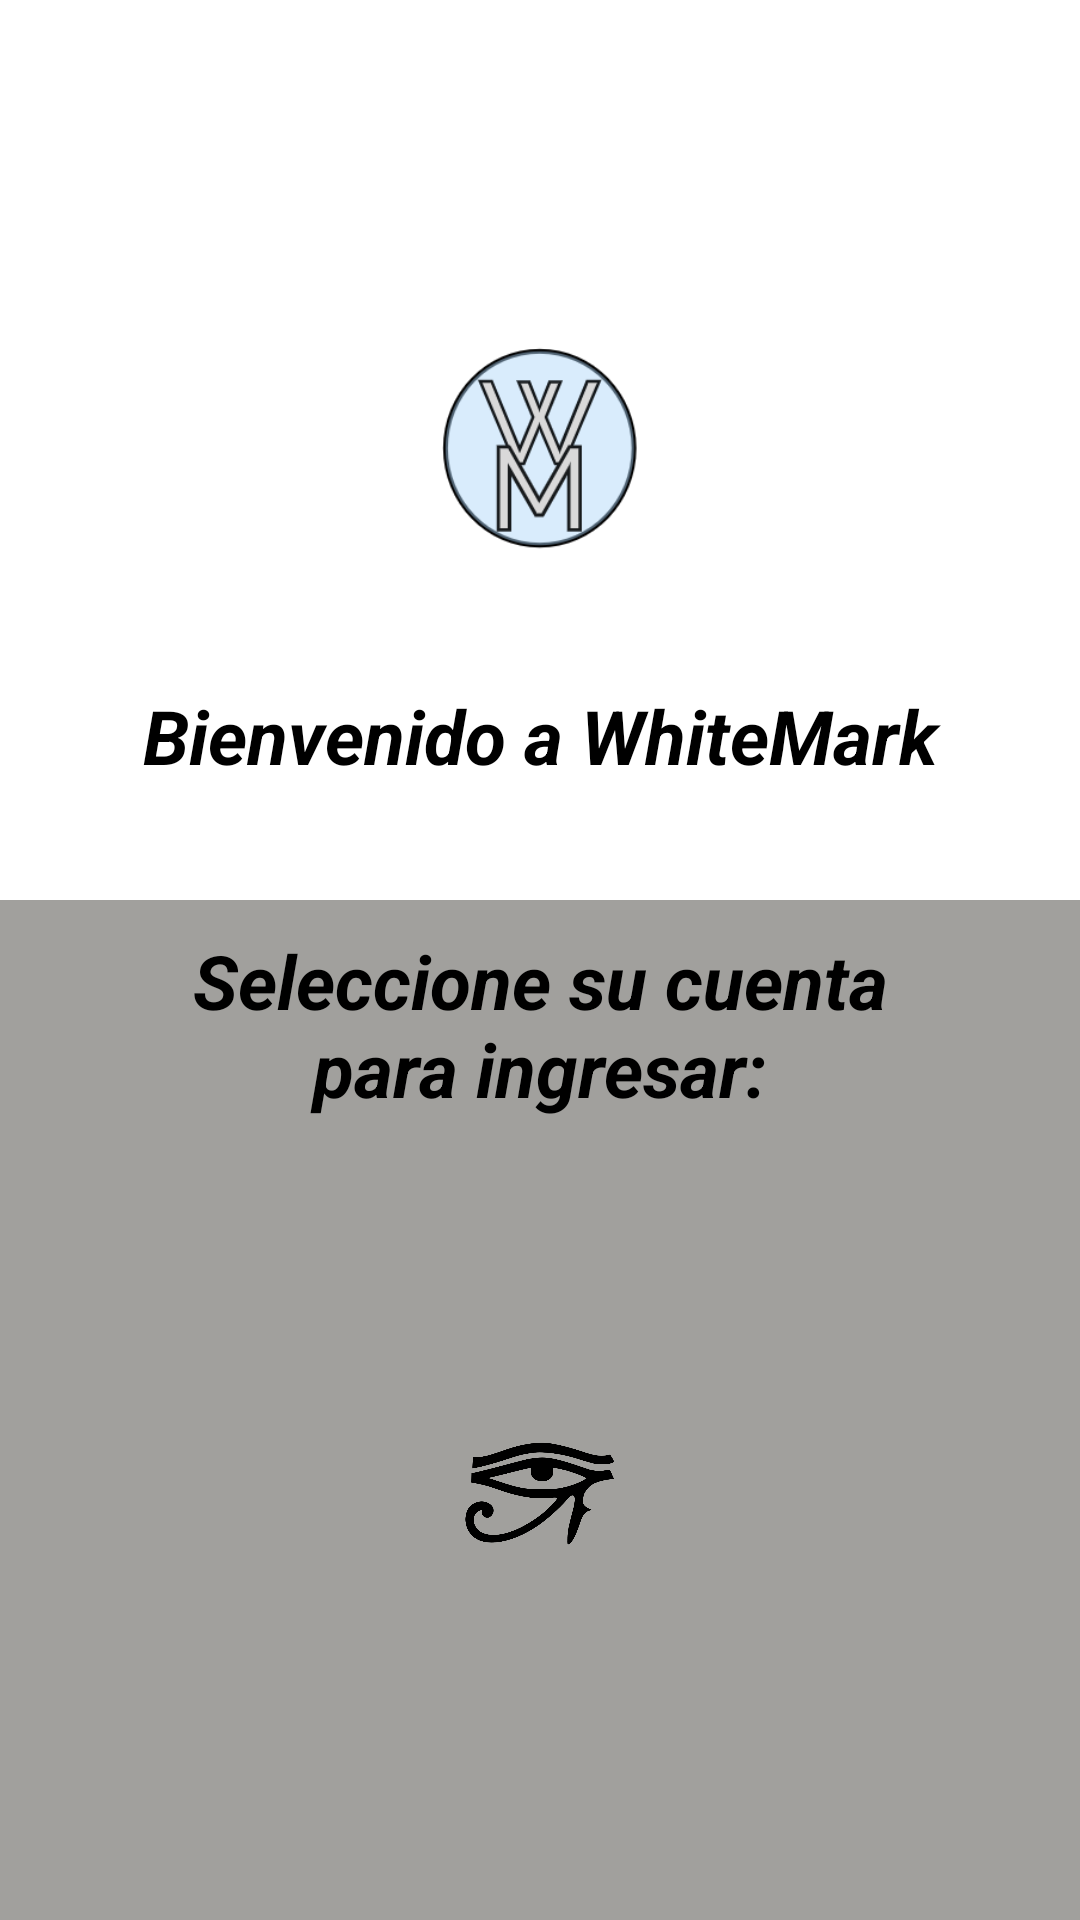

Where to tap for icons on this 1080×1920 app screen, as point (x, y):
horus: point (539, 1493)
